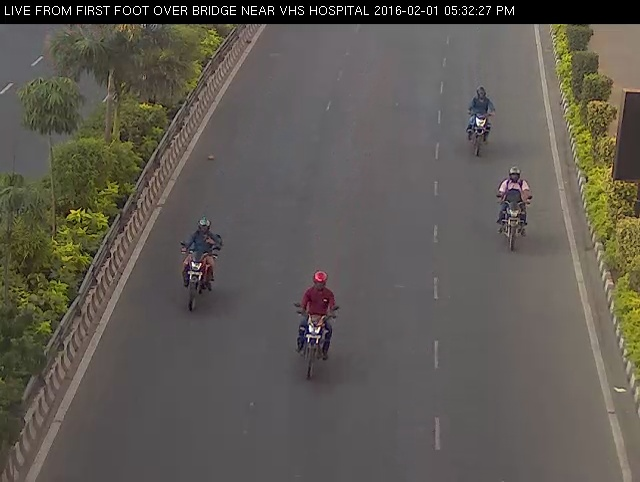Person: (169, 205, 226, 320), (290, 265, 341, 388), (492, 162, 540, 258), (450, 74, 498, 164)
